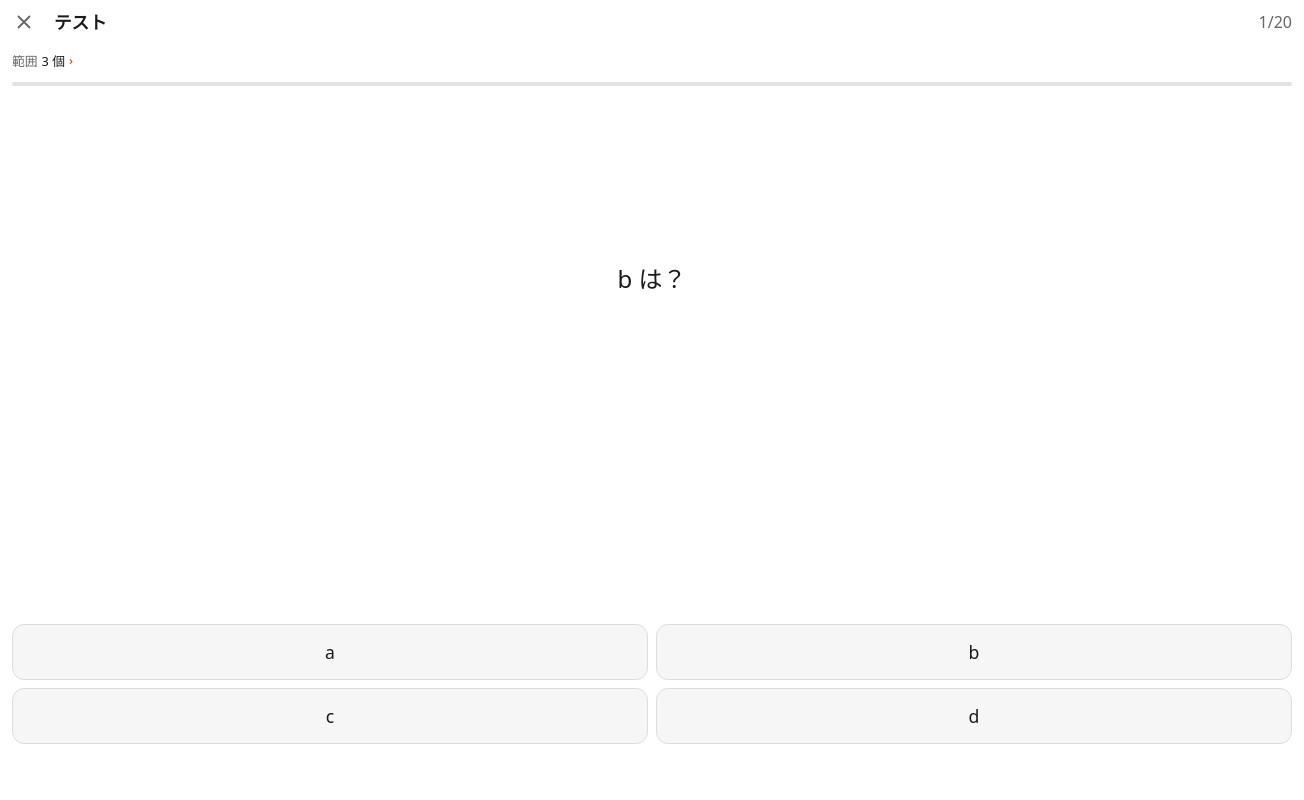
Test: Drill › 出題範囲を出し、設定のその分野の欄へ。答え始めたら出さない
Expected: the link "範囲 3 個 ›" is shown, x1=12 y1=51 x2=73 y2=70
Click the button "b". click: (974, 652)
box: x1=656 y1=624 x2=1292 y2=680
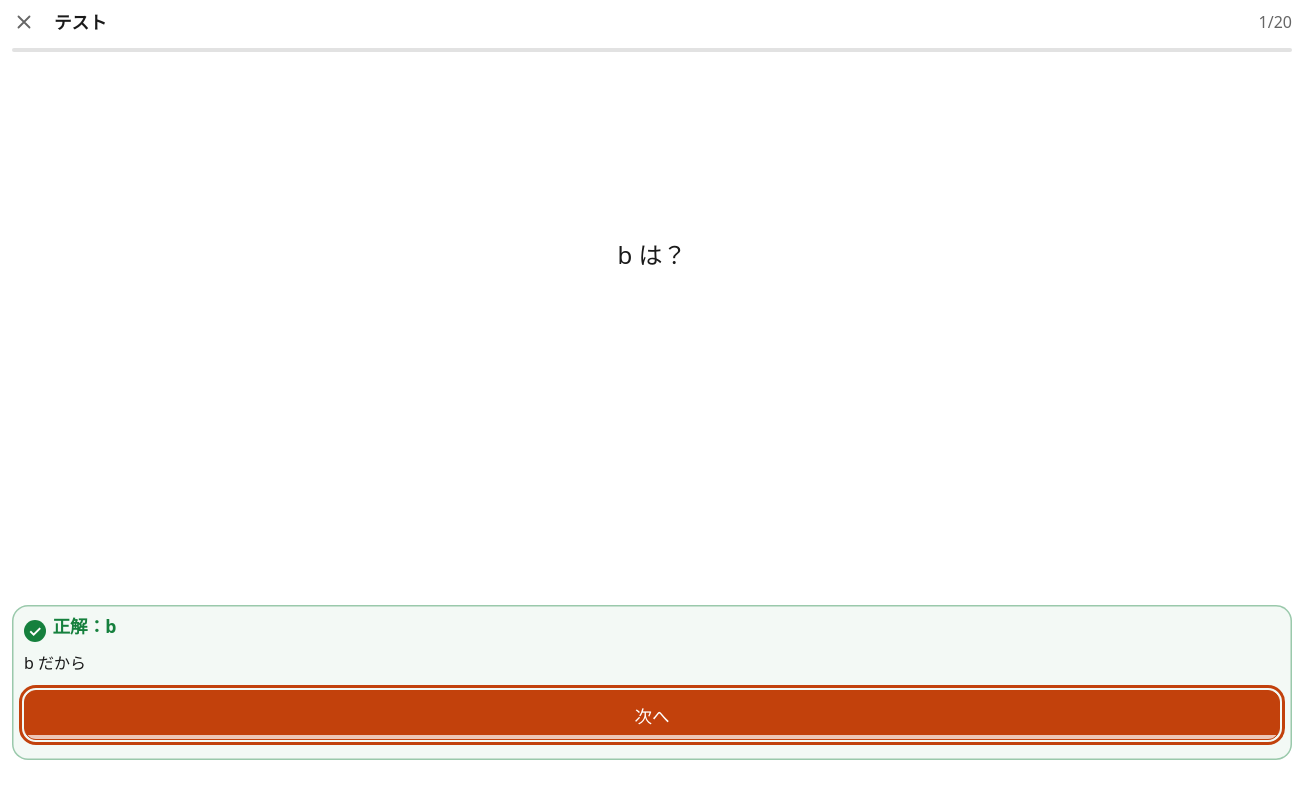
Expected: the link "範囲 3 個 ›" is gone
